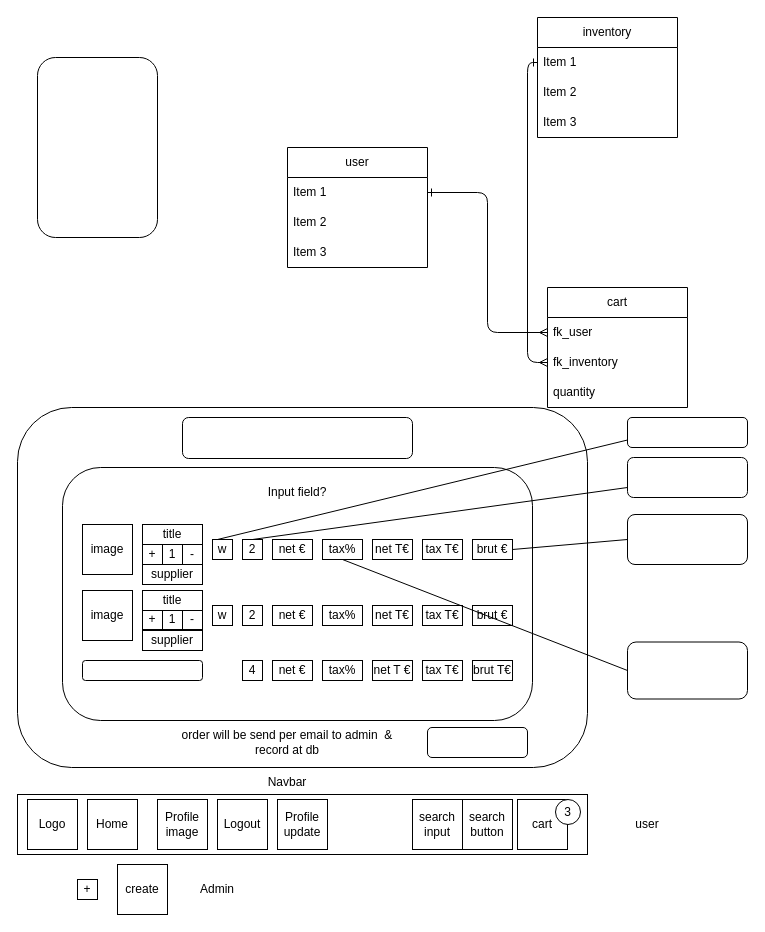
Some shapes in this 765 by 932 pixel diagram are drawn without their labels. The centre of each missing label's shape, as x and y in pixels:
col at table "inventory" at db: named "price": the point at 687,539
col at table "inventory" at db: named "tax_perc": the point at 687,670
delete this record at "cart .php": the point at 687,432
Order now: the point at 477,742
qtty: col at db at table "cart": the point at 687,477
registration page to create an Account: the point at 97,147
Total: the point at 142,670
Your Order: the point at 297,437
